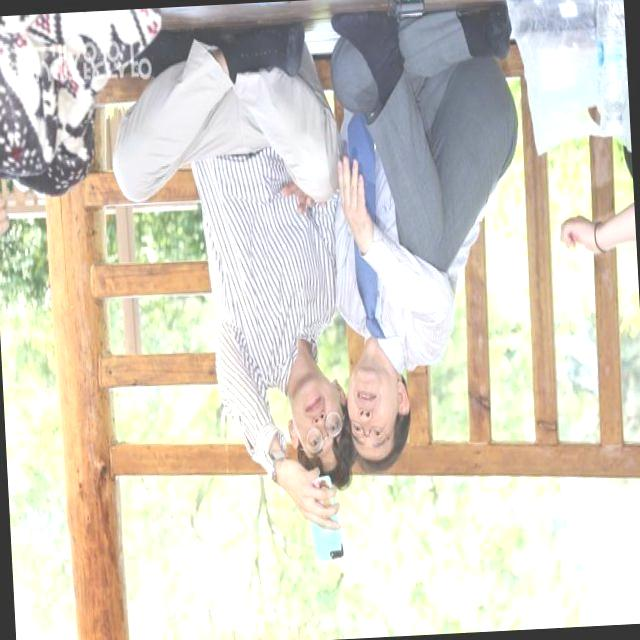lens: (331, 551, 343, 560)
phone: (304, 473, 346, 562)
